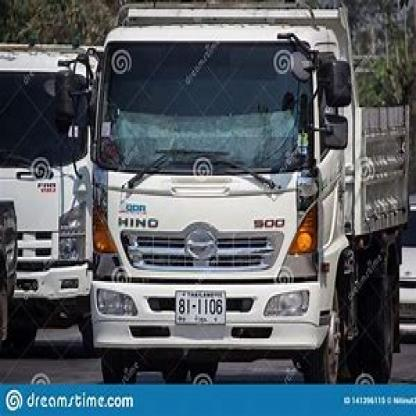dump_truck: (64, 4, 410, 375)
